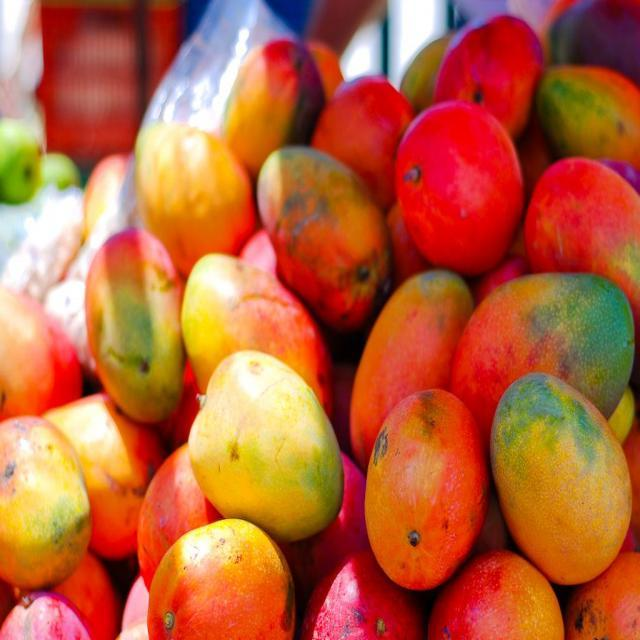Mango: (2, 14, 640, 639), (491, 375, 631, 585), (190, 370, 334, 544)
